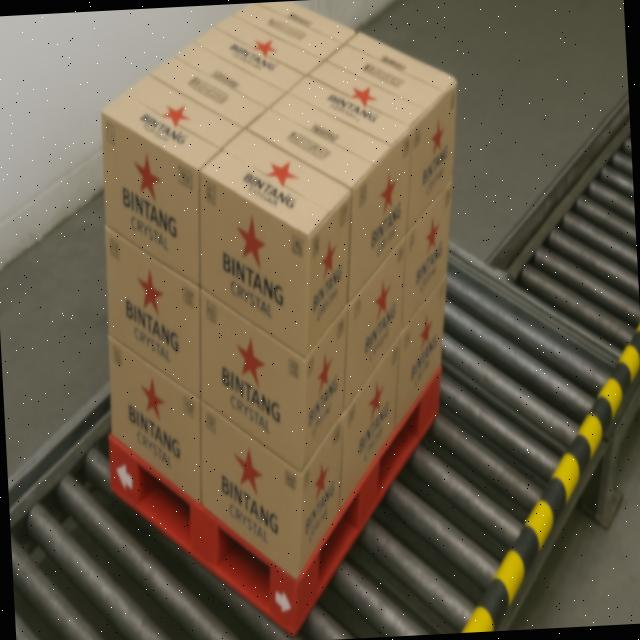pallet: (86, 0, 488, 640)
